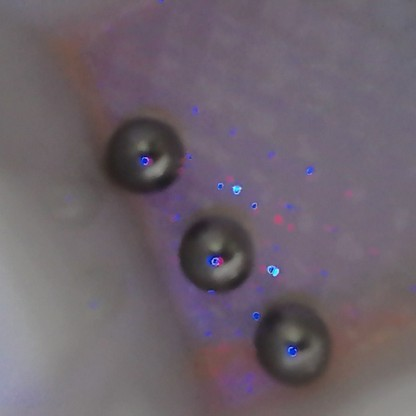ironball: (247, 303, 333, 386), (175, 214, 262, 293), (103, 116, 182, 195)
